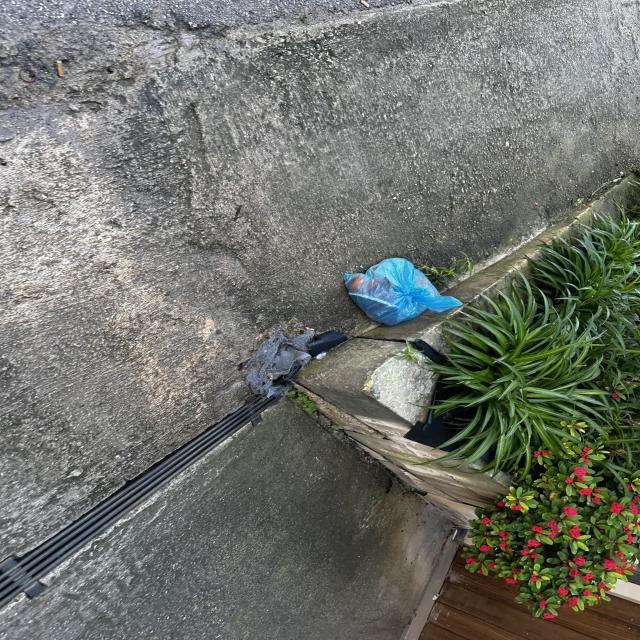Others Waste: (344, 258, 463, 326)
